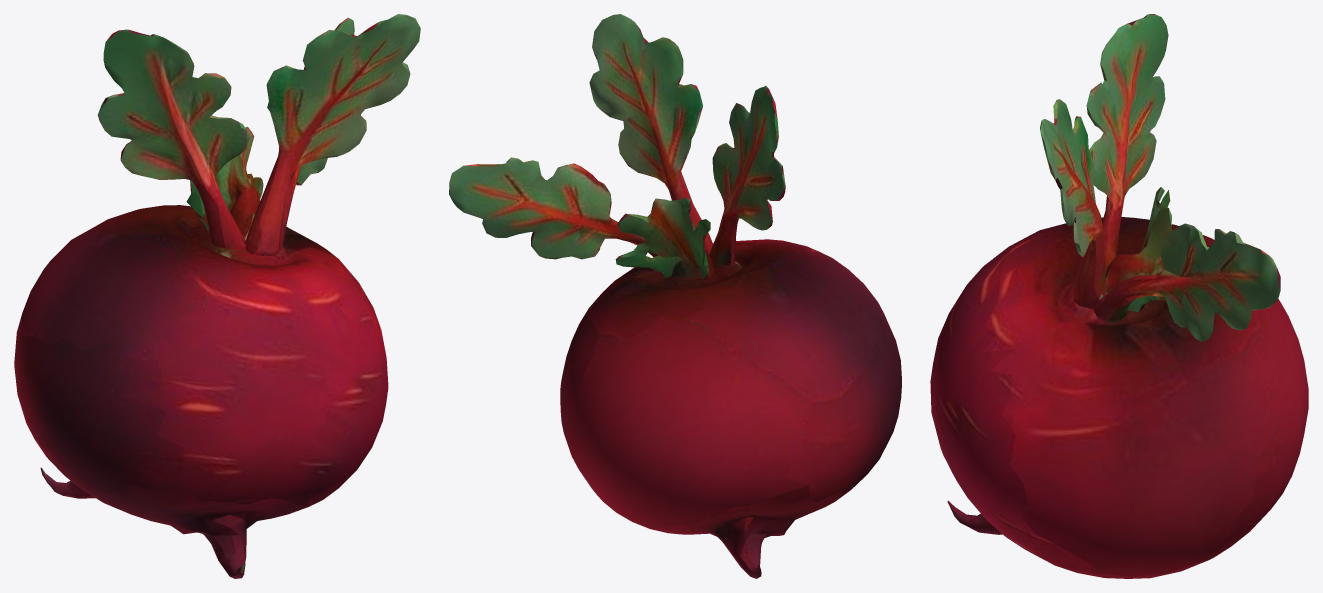
Rendered from beet.glb.
3 renders of one model, left to right at view 1: azimuth 30°, elevation 25°; view 2: azimuth 150°, elevation 25°; view 3: azimuth 270°, elevation 25°, orthographic. The views are drawn at different scales.
Parts seen in each view (by area): view 1: beet; view 2: beet; view 3: beet.
Boxes of the visible parts, box(x1,y1,x2,y2) form: beet: box(14, 14, 420, 578); beet: box(449, 14, 901, 578); beet: box(930, 14, 1308, 578).
Size of the model in its own units: 0.8319 by 1 by 0.6786.
Materials: 1 (1 with a texture image).
